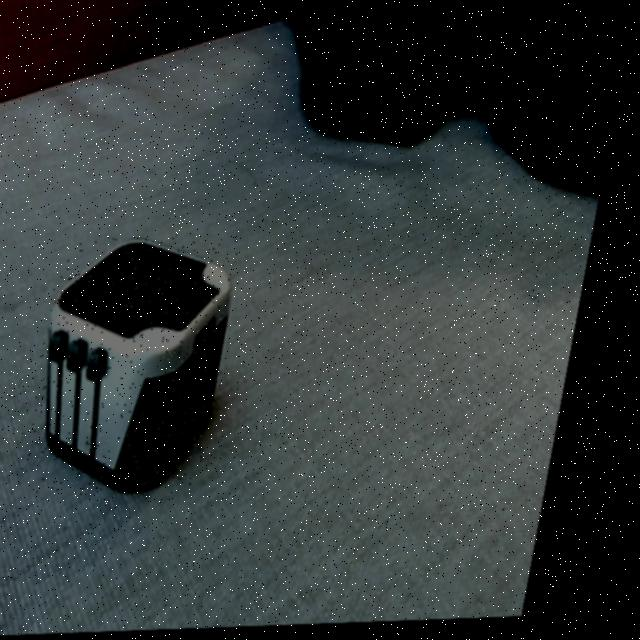adapter: (34, 235, 253, 498)
